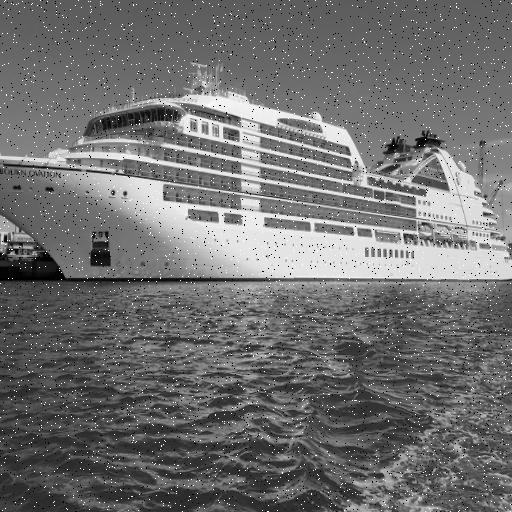cruises: (1, 57, 512, 290)
